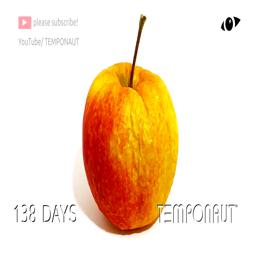Apple Overripe: (83, 14, 178, 229)
